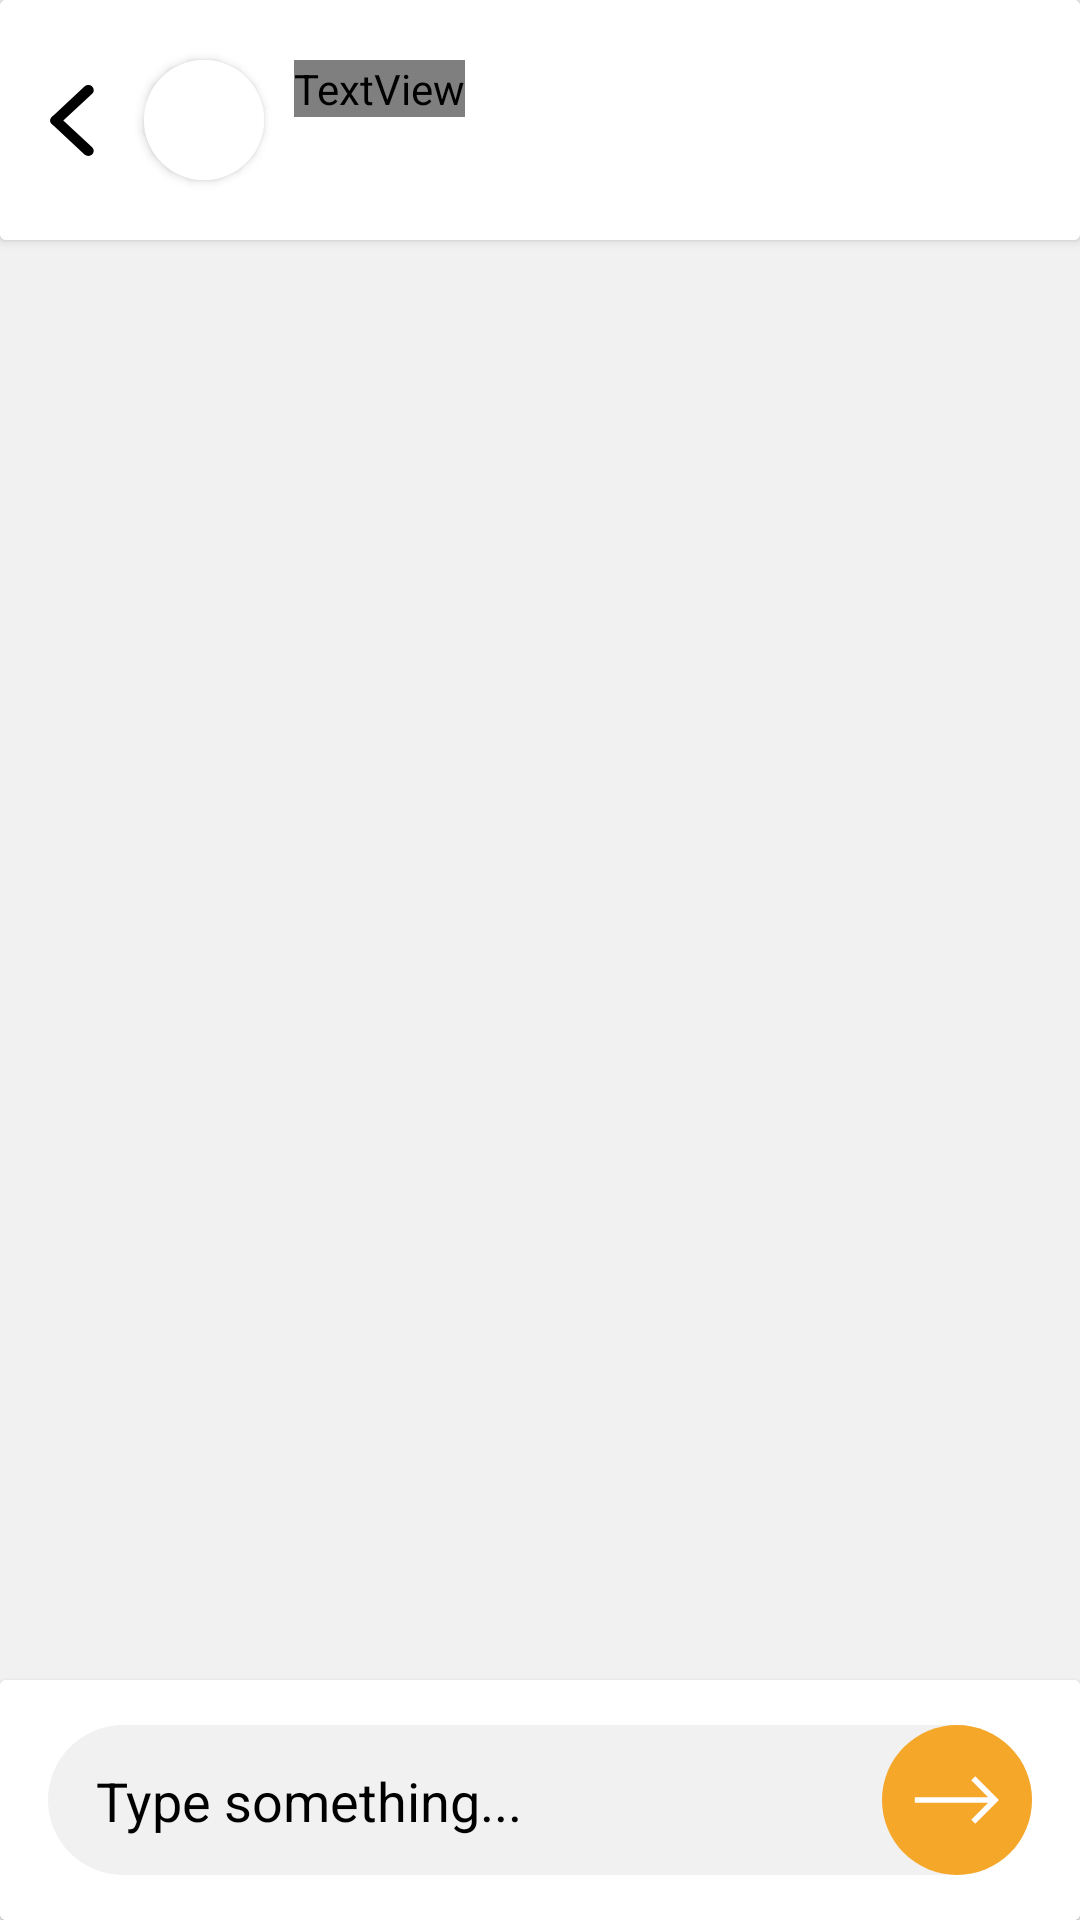

Where icons sit on this 1080w x 1920h app screen, as bbox=(x1, y1, x2, y2):
back: bbox=(50, 85, 94, 156)
send message: bbox=(882, 1725, 1032, 1875)
